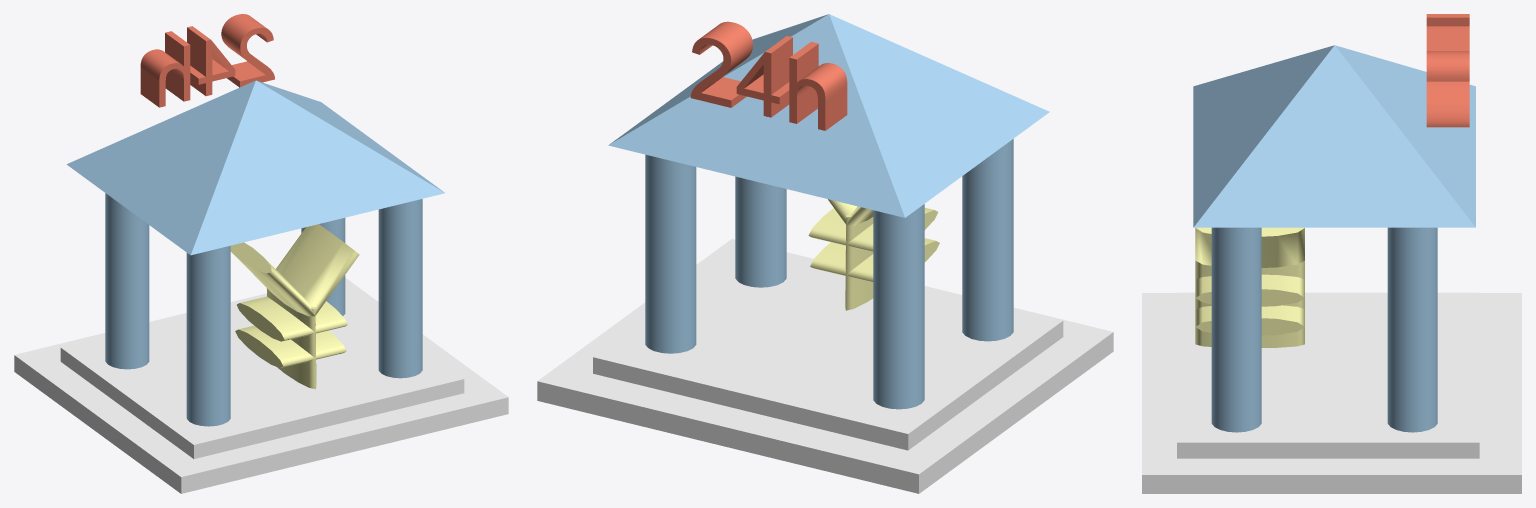
The model's file is 24小时自助银行.gltf.
3 views of the same model, side by side, from view 1: azimuth 30°, elevation 25°; view 2: azimuth 150°, elevation 25°; view 3: azimuth 270°, elevation 25° (orthographic). The views are drawn at different scales.
Visible parts, largest first — view 1: node_Pyramid001_-49372, node_Box002_-49328, node_Box001_-49320, node_money (1)_-49380, node_Cylinder004_-49360, node_Cylinder003_-49352, node_Cylinder002_-49344, node_24h_-49386, node_Cylinder001_-49336; view 2: node_Box002_-49328, node_Pyramid001_-49372, node_Box001_-49320, node_Cylinder002_-49344, node_Cylinder001_-49336, node_Cylinder004_-49360, node_24h_-49386, node_Cylinder003_-49352, node_money (1)_-49380; view 3: node_Pyramid001_-49372, node_Box002_-49328, node_Box001_-49320, node_Cylinder001_-49336, node_Cylinder003_-49352, node_money (1)_-49380, node_24h_-49386.
Part boxes in pixels (x1,y1,x2,y2): node_Pyramid001_-49372: [67, 80, 445, 255]; node_Box002_-49328: [60, 292, 464, 458]; node_Box001_-49320: [14, 278, 508, 493]; node_money (1)_-49380: [230, 224, 359, 389]; node_Cylinder004_-49360: [186, 245, 230, 426]; node_Cylinder003_-49352: [378, 199, 422, 378]; node_Cylinder002_-49344: [105, 193, 149, 369]; node_24h_-49386: [140, 14, 274, 107]; node_Cylinder001_-49336: [301, 218, 345, 315]; node_Box002_-49328: [593, 253, 1063, 450]; node_Pyramid001_-49372: [608, 14, 1049, 217]; node_Box001_-49320: [537, 239, 1113, 493]; node_Cylinder002_-49344: [873, 204, 924, 409]; node_Cylinder001_-49336: [645, 154, 696, 353]; node_Cylinder004_-49360: [962, 139, 1013, 341]; node_24h_-49386: [690, 21, 847, 130]; node_Cylinder003_-49352: [735, 176, 786, 287]; node_money (1)_-49380: [808, 199, 939, 310]; node_Pyramid001_-49372: [1193, 45, 1475, 227]; node_Box002_-49328: [1177, 292, 1479, 458]; node_Box001_-49320: [1142, 293, 1521, 493]; node_Cylinder001_-49336: [1387, 227, 1437, 432]; node_Cylinder003_-49352: [1211, 227, 1261, 432]; node_money (1)_-49380: [1195, 227, 1304, 347]; node_24h_-49386: [1426, 14, 1469, 127].
Bounding box in the file's own units: 0.0791 × 0.075 × 0.0699.
